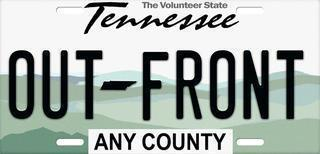placa de veiculo: (4, 1, 310, 154)
